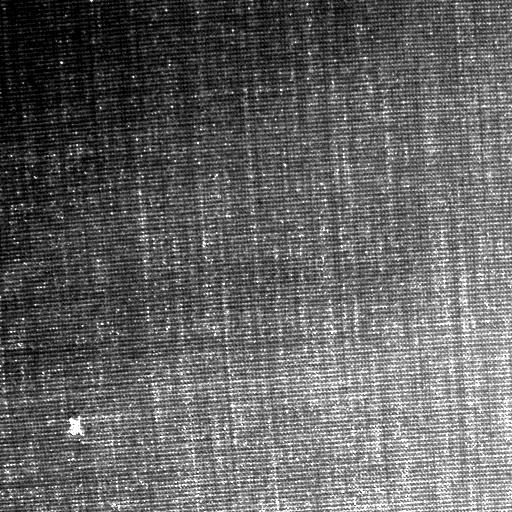fabric_hole: (62, 408, 92, 450)
